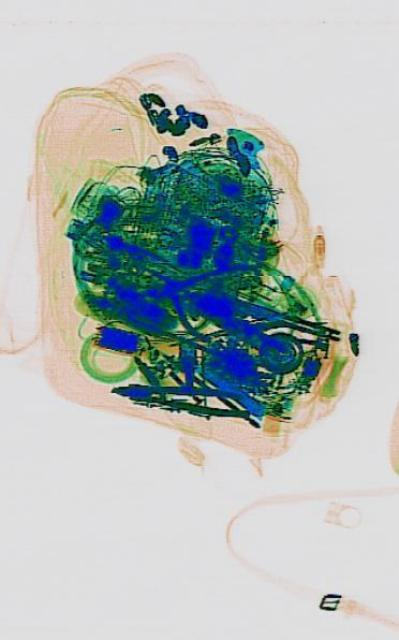Pliers: (144, 235, 253, 352), (110, 374, 247, 418)
